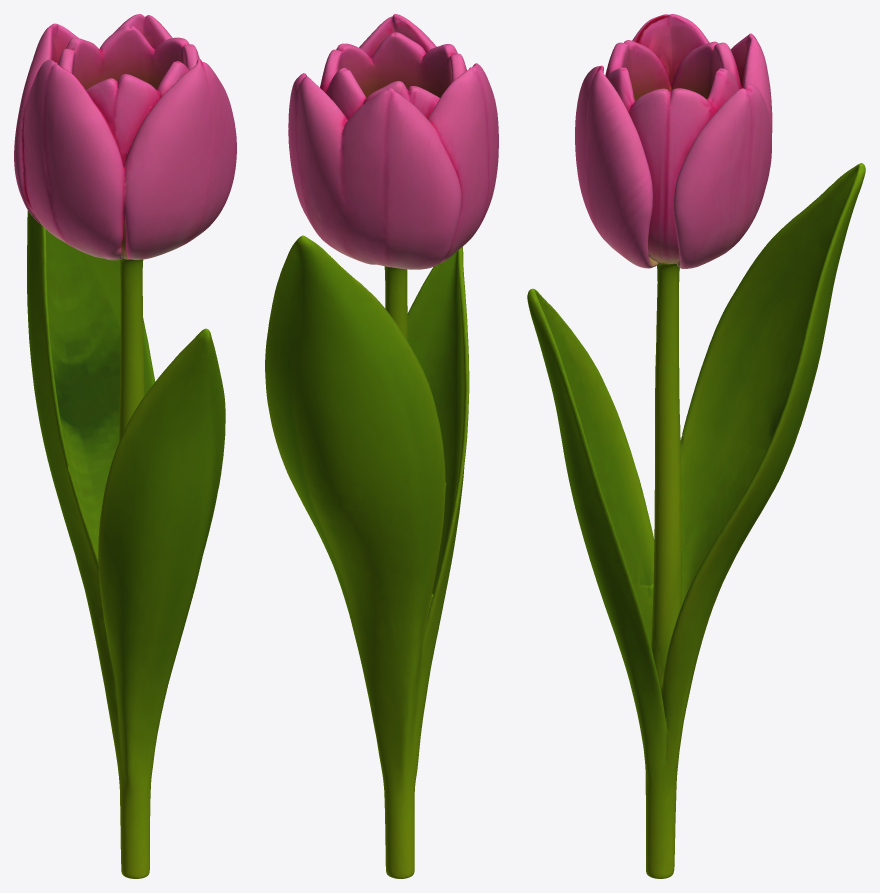
The model's file is Tulip Pink.glb.
3 renders of one model, left to right at view 1: azimuth 30°, elevation 25°; view 2: azimuth 150°, elevation 25°; view 3: azimuth 270°, elevation 25°, orthographic.
Parts seen in each view (by area): view 1: tripo_node_a5088952-96b9-452f-b88f-5158d52926b0; view 2: tripo_node_a5088952-96b9-452f-b88f-5158d52926b0; view 3: tripo_node_a5088952-96b9-452f-b88f-5158d52926b0.
Part boxes in pixels (x1,y1,x2,y2): tripo_node_a5088952-96b9-452f-b88f-5158d52926b0: [14, 14, 236, 878]; tripo_node_a5088952-96b9-452f-b88f-5158d52926b0: [265, 14, 498, 878]; tripo_node_a5088952-96b9-452f-b88f-5158d52926b0: [527, 14, 865, 878].
Bounding box in the file's own units: 0.2305 × 1 × 0.3715.
Materials: 1 (1 with a texture image).
